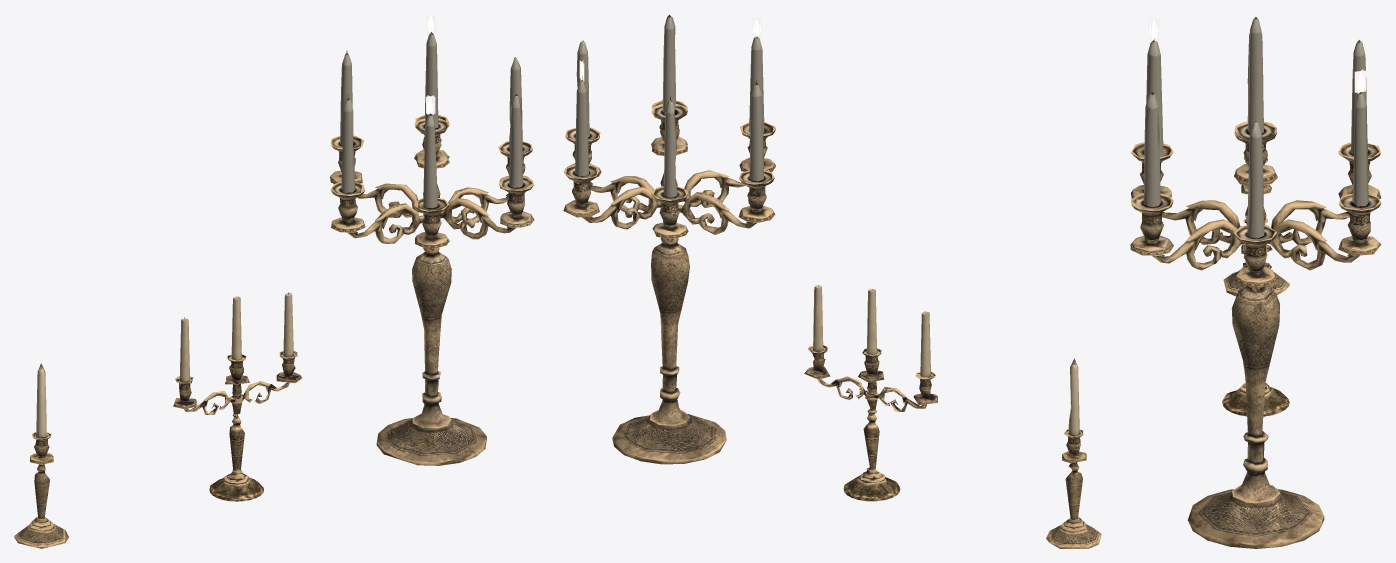
The model's file is brass_candleholders.glb.
3 renders of one model, left to right at view 1: azimuth 30°, elevation 25°; view 2: azimuth 150°, elevation 25°; view 3: azimuth 270°, elevation 25°, orthographic. The views are drawn at different scales.
Parts seen in each view (by area): view 1: brass_candleholders_03, brass_candleholders_02, brass_candleholders_01, brass_candleholders_candles; view 2: brass_candleholders_03, brass_candleholders_02, brass_candleholders_01, brass_candleholders_candles; view 3: brass_candleholders_03, brass_candleholders_02, brass_candleholders_01, brass_candleholders_flame.
Boxes of the visible parts, box(x1,y1,x2,y2) form: brass_candleholders_03: box(330, 32, 534, 465); brass_candleholders_02: box(173, 351, 302, 501); brass_candleholders_01: box(14, 363, 68, 548); brass_candleholders_candles: box(179, 292, 293, 382); brass_candleholders_03: box(563, 15, 775, 464); brass_candleholders_02: box(804, 345, 937, 501); brass_candleholders_01: box(1046, 358, 1101, 548); brass_candleholders_candles: box(813, 285, 930, 377); brass_candleholders_03: box(1130, 17, 1381, 548); brass_candleholders_02: box(1222, 218, 1289, 416); brass_candleholders_01: box(1223, 158, 1289, 296); brass_candleholders_flame: box(1148, 17, 1365, 93).
Size of the model in its own units: 1.05 by 0.8061 by 0.3627.
5 materials, 5 textured.
